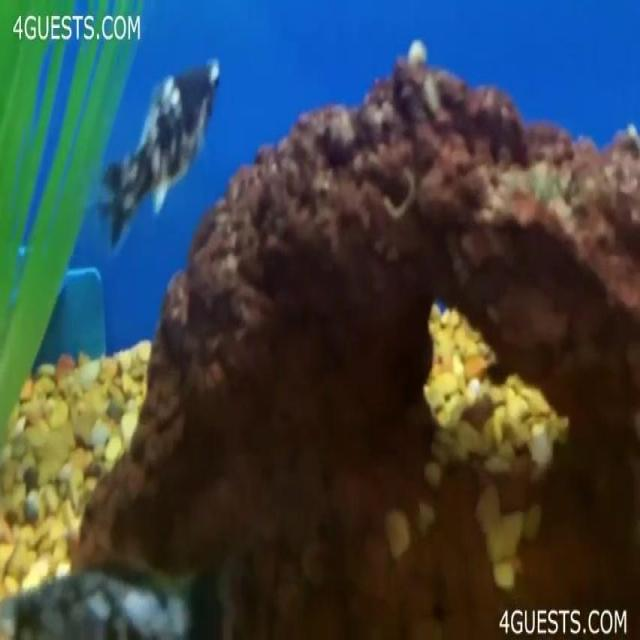PlatyFish: (84, 44, 231, 276)
